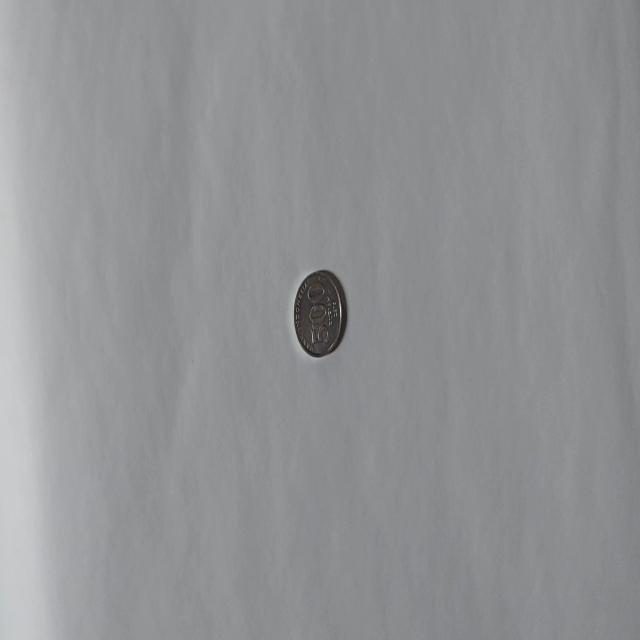lima ratus rupiah: (292, 268, 346, 358)
